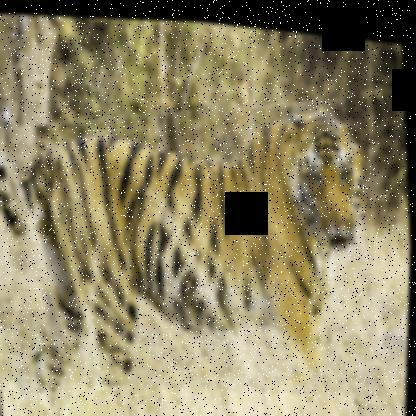Panthera tigris: (0, 71, 388, 415)
